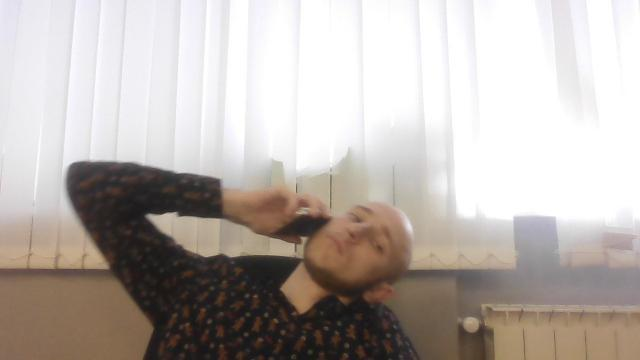PhoneUse: (274, 210, 332, 242)
